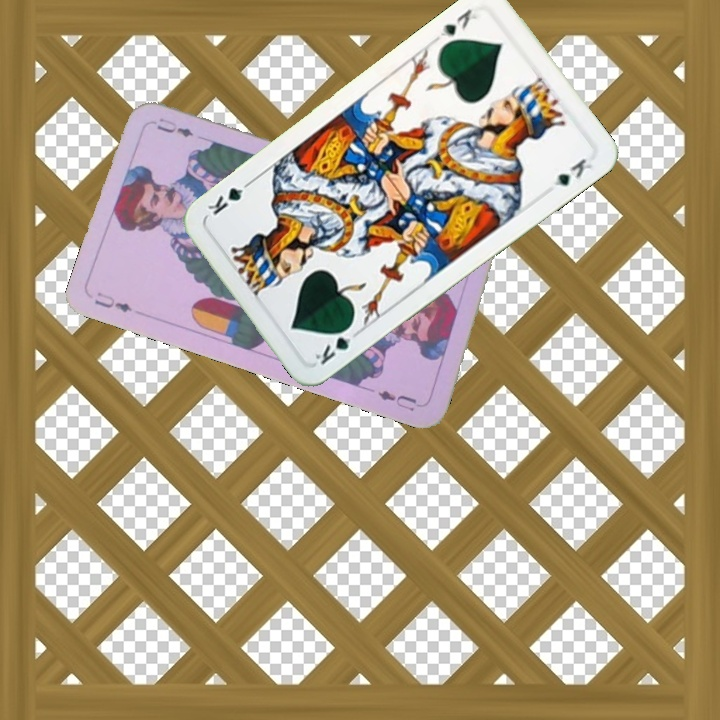EU: (90, 288, 135, 315)
GK: (311, 320, 363, 368), (431, 5, 480, 44)
